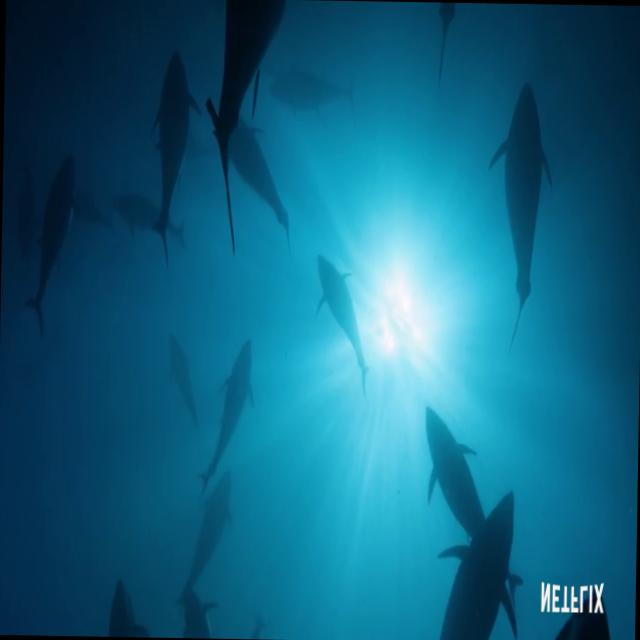fish: (199, 0, 284, 270), (484, 64, 556, 360), (415, 495, 531, 640), (147, 44, 209, 278), (17, 134, 86, 338), (411, 406, 496, 550), (306, 258, 382, 407), (198, 325, 261, 501), (180, 469, 242, 606), (270, 66, 363, 130), (162, 328, 206, 438), (92, 565, 156, 637), (111, 200, 195, 253), (541, 586, 617, 640), (162, 584, 216, 638), (72, 184, 115, 250)
